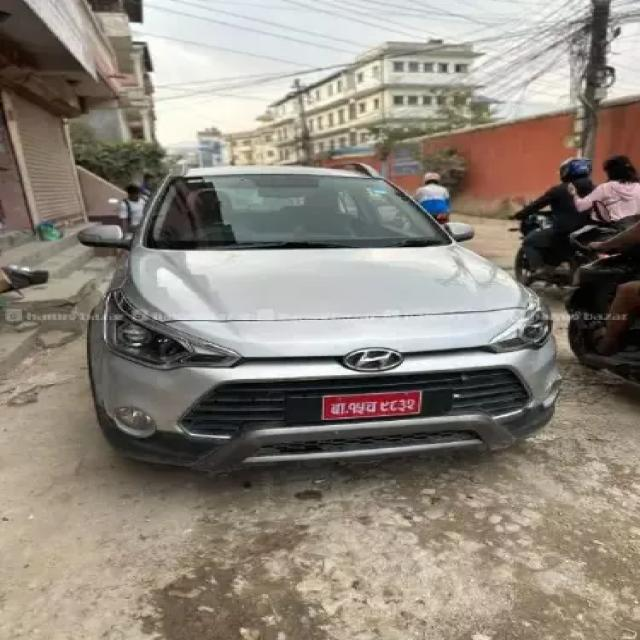License-plate: (317, 390, 434, 420)
